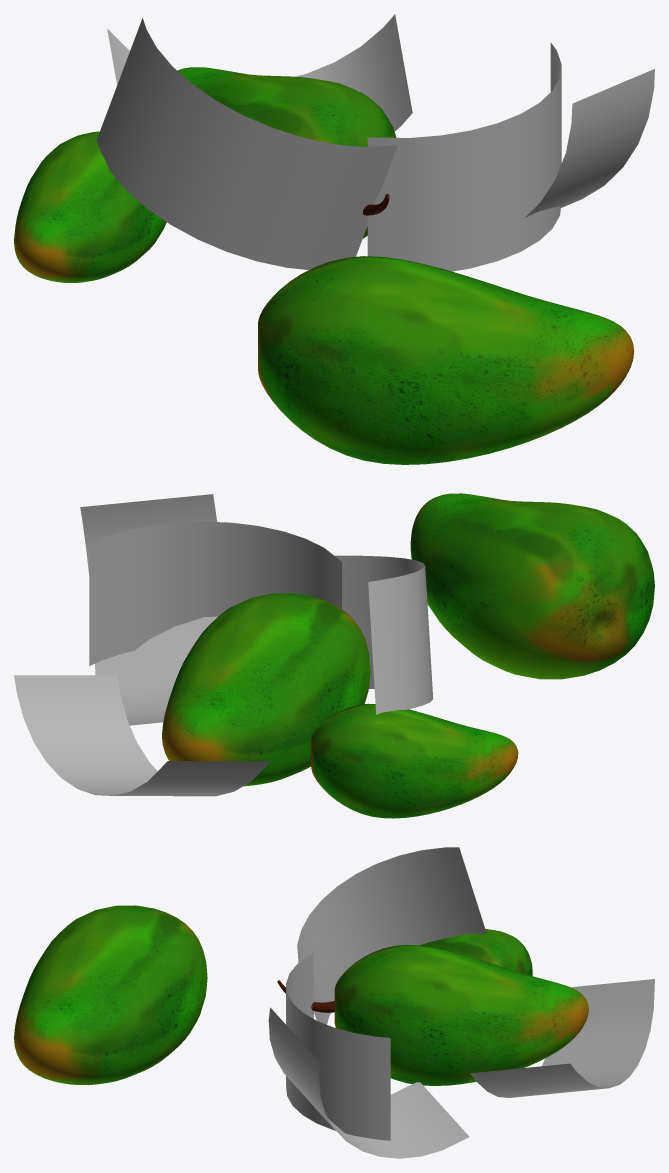
The model's file is B-14 Fruity.fbx.
3 views of the same model, one above another, from view 1: azimuth 30°, elevation 25°; view 2: azimuth 150°, elevation 25°; view 3: azimuth 270°, elevation 25° (orthographic). The views are drawn at different scales.
Visible parts, largest first — view 1: Cube.002, Plane.000, Plane.001, Cube.001, Cube, Plane.003, Plane.002; view 2: Cube.002, Cube, Plane.001, Cube.001, Plane.002, Plane.000, Plane.003; view 3: Cube.002, Cube, Plane.000, Plane.001, Plane.002, Plane.003, Cube.001.
Boxes of the visible parts, x1,y1,x2,y2 form: Cube.002: (258,256,634,464); Plane.000: (96,18,397,269); Plane.001: (367,42,561,271); Cube.001: (14,131,166,282); Cube: (177,67,396,238); Plane.003: (525,69,654,217); Plane.002: (107,14,412,131); Cube.002: (410,493,654,679); Cube: (162,593,370,786); Plane.001: (89,521,341,665); Cube.001: (310,703,518,818); Plane.002: (14,675,270,796); Plane.000: (334,555,433,714); Plane.003: (80,494,217,725); Cube.002: (14,905,207,1085); Cube: (334,945,588,1085); Plane.000: (297,847,486,1024); Plane.001: (286,953,390,1140); Plane.002: (470,979,654,1097); Plane.003: (268,1007,469,1158); Cube.001: (420,929,532,975).
Size of what is drawn, in the model's own units: 725 by 334 by 961.
